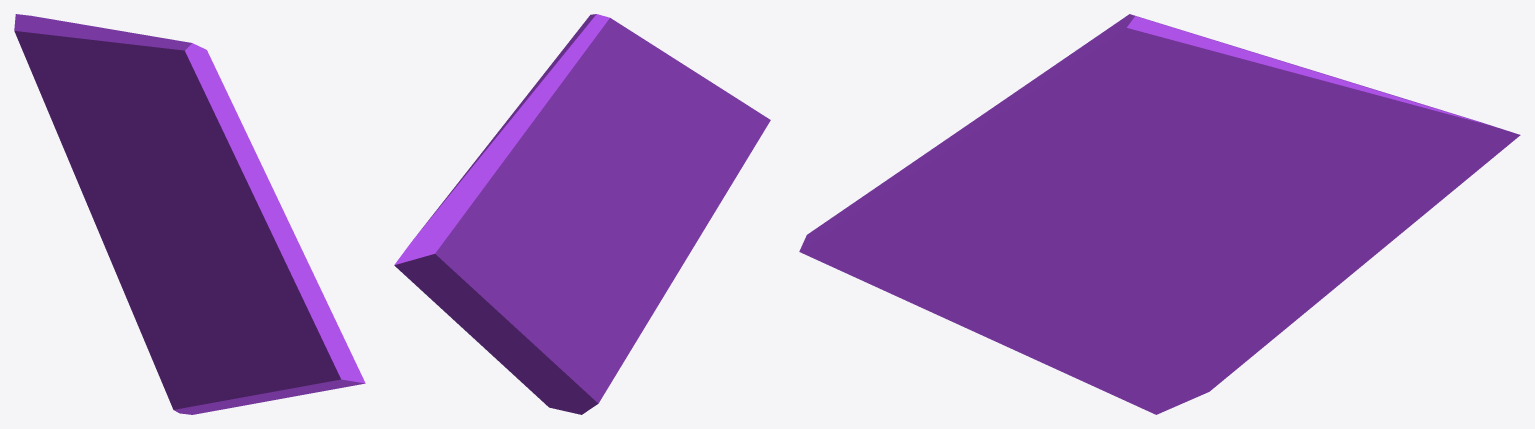
Rendered from Window_10_5_chunks.fbx.
3 views of the same model, side by side, from view 1: azimuth 30°, elevation 25°; view 2: azimuth 150°, elevation 25°; view 3: azimuth 270°, elevation 25° (orthographic). The views are drawn at different scales.
Parts seen in each view (by area): view 1: Window_10_5_1, Window_10_5_0, Window_10_5_4, Window_10_5_3, Window_10_5_5; view 2: Window_10_5_1, Window_10_5_0, Window_10_5_3, Window_10_5_4, Window_10_5_5; view 3: Window_10_5_1, Window_10_5_0, Window_10_5_4, Window_10_5_3, Window_10_5_6, Window_10_5_2, Window_10_5_5.
Boxes of the visible parts, left/top/right/bottom form: Window_10_5_1: left=106, top=31, right=336, bottom=333; Window_10_5_0: left=14, top=14, right=146, bottom=272; Window_10_5_4: left=205, top=281, right=365, bottom=407; Window_10_5_3: left=116, top=227, right=234, bottom=414; Window_10_5_5: left=145, top=204, right=248, bottom=325; Window_10_5_1: left=510, top=14, right=748, bottom=232; Window_10_5_0: left=394, top=116, right=570, bottom=371; Window_10_5_3: left=511, top=267, right=641, bottom=414; Window_10_5_4: left=631, top=106, right=770, bottom=332; Window_10_5_5: left=569, top=158, right=675, bottom=270; Window_10_5_1: left=851, top=14, right=1291, bottom=211; Window_10_5_0: left=1215, top=64, right=1520, bottom=328; Window_10_5_4: left=799, top=205, right=1092, bottom=374; Window_10_5_3: left=1068, top=257, right=1285, bottom=414; Window_10_5_6: left=1052, top=208, right=1238, bottom=293; Window_10_5_2: left=1164, top=182, right=1221, bottom=222; Window_10_5_5: left=1018, top=209, right=1066, bottom=239.
Size of the model in its own units: 27.2 by 479 by 796.
